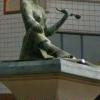Statue: (11, 3, 84, 71)
